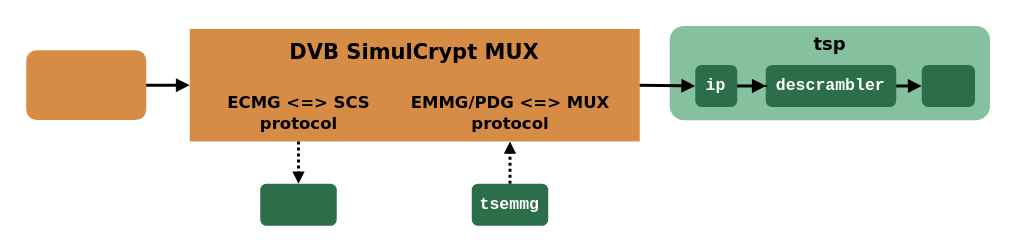
Image size: 1016x252. Some labels were removed from this diagram. The shapes that lost their labels are listed below. From the top down, each one's centre as x and y in pixels, then its label:
the point at 86,84: Video encoder
the point at 947,85: play
the point at 298,204: tsecmg
